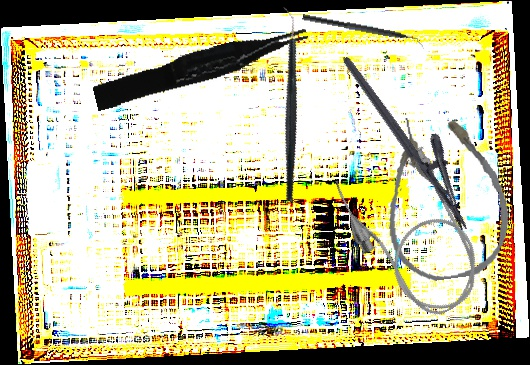Cannula: (324, 135, 500, 335), (373, 105, 518, 287)
Chopper: (218, 6, 357, 203), (300, 14, 427, 50)
Needle Holder: (340, 39, 493, 233)
Tissue Forceps: (90, 23, 313, 112)
